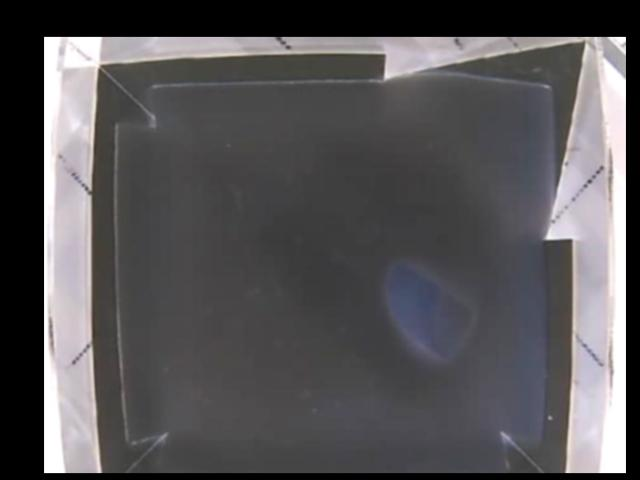Mooli: (388, 264, 473, 354)
